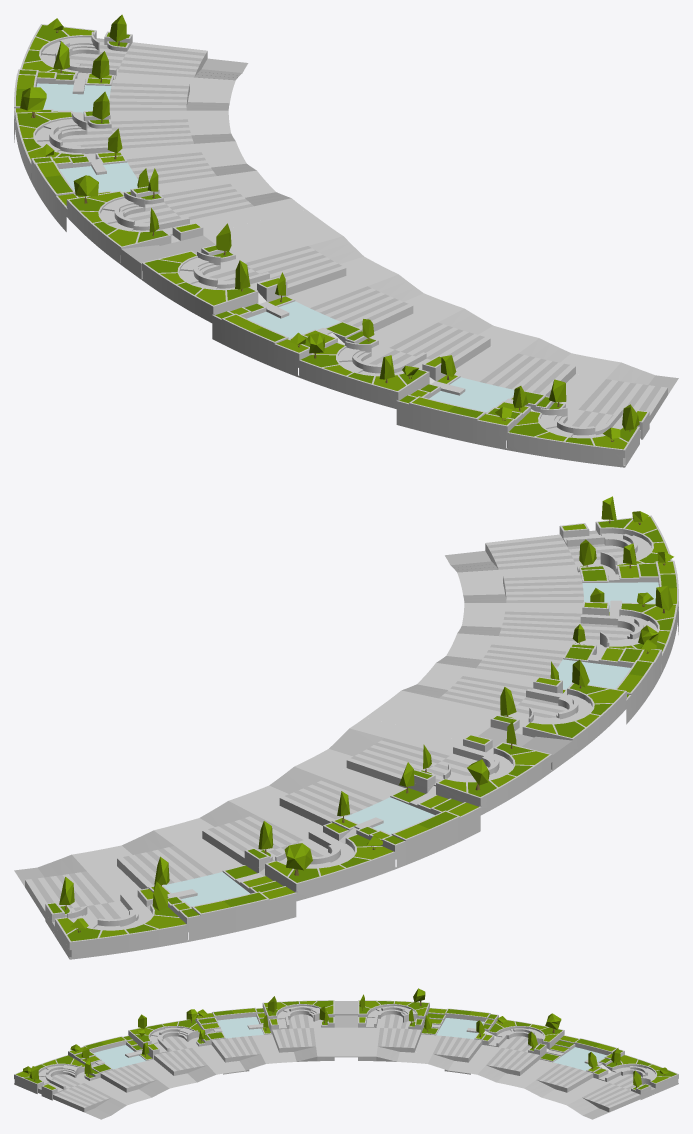
Rendered from ring2_segment_low.glb.
The picture shows the model from 3 angles, top to bottom: view 1: azimuth 30°, elevation 25°; view 2: azimuth 150°, elevation 25°; view 3: azimuth 270°, elevation 25°; orthographic projection. The views are drawn at different scales.
Parts seen in each view (by area): view 1: RING_2_MOD_LOW; view 2: RING_2_MOD_LOW; view 3: RING_2_MOD_LOW.
Part boxes in pixels (x1,y1,x2,y2): RING_2_MOD_LOW: (14, 14, 678, 467); RING_2_MOD_LOW: (14, 496, 678, 959); RING_2_MOD_LOW: (14, 988, 678, 1119).
Bounding box in the file's own units: 4008 × 905 × 12159.
